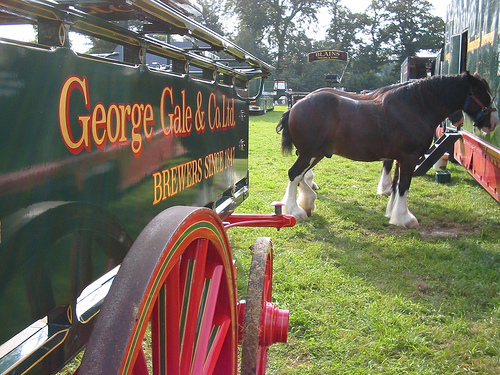horse: (274, 70, 498, 229)
